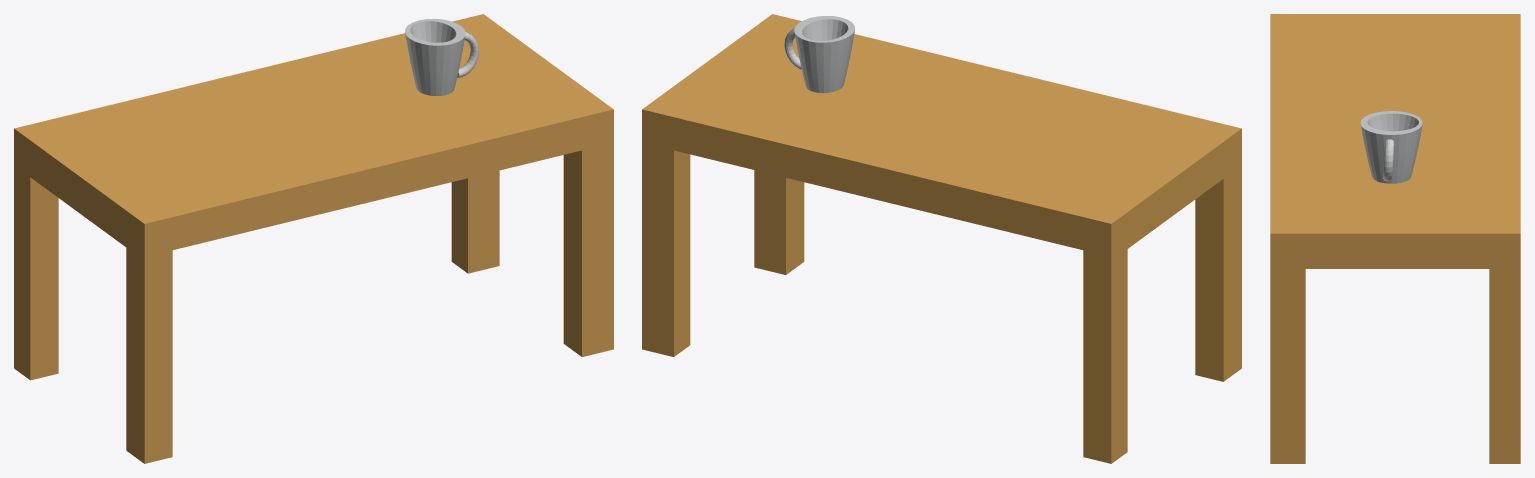
File: class150.glb
3 renders of one model, left to right at view 1: azimuth 30°, elevation 25°; view 2: azimuth 150°, elevation 25°; view 3: azimuth 270°, elevation 25°, orthographic. The views are drawn at different scales.
Parts seen in each view (by area): view 1: Mesh_Mesh_head_geo.001_lambert2SG.001; view 2: Mesh_Mesh_head_geo.001_lambert2SG.001; view 3: Mesh_Mesh_head_geo.001_lambert2SG.001.
Part boxes in pixels (box(x1,y1,x2,y2)): Mesh_Mesh_head_geo.001_lambert2SG.001: box(14, 14, 613, 463); Mesh_Mesh_head_geo.001_lambert2SG.001: box(642, 14, 1241, 463); Mesh_Mesh_head_geo.001_lambert2SG.001: box(1270, 14, 1520, 463).
Size of the model in its own units: 133 by 81 by 64.
